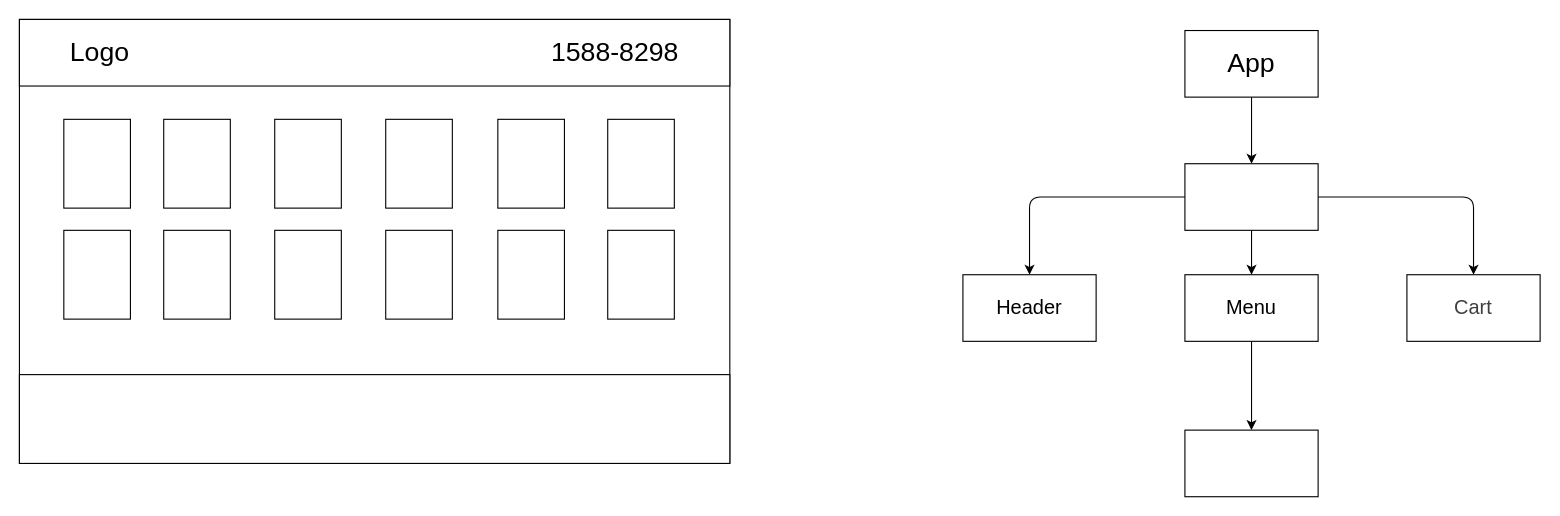
This 1560x516 diagram has some shape labels left out. Each missing label, with the centre of its shape:
Cards: (x=1251, y=463)
Cart Price: (x=374, y=418)
Home: (x=1251, y=196)
